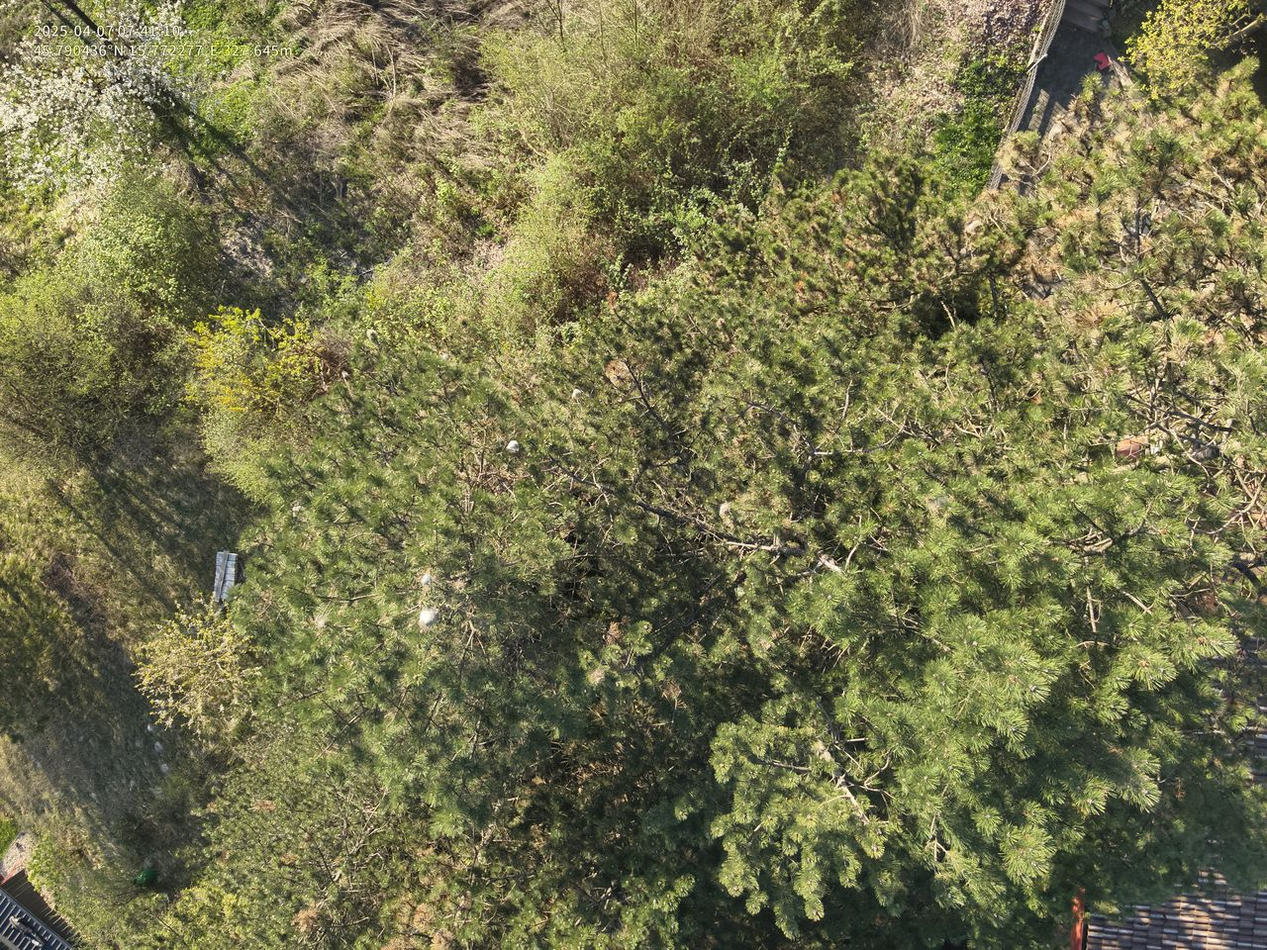thaumatopoea pityocampa jajno gnijezdo: (413, 602, 442, 632), (504, 436, 524, 458), (566, 385, 588, 404)
